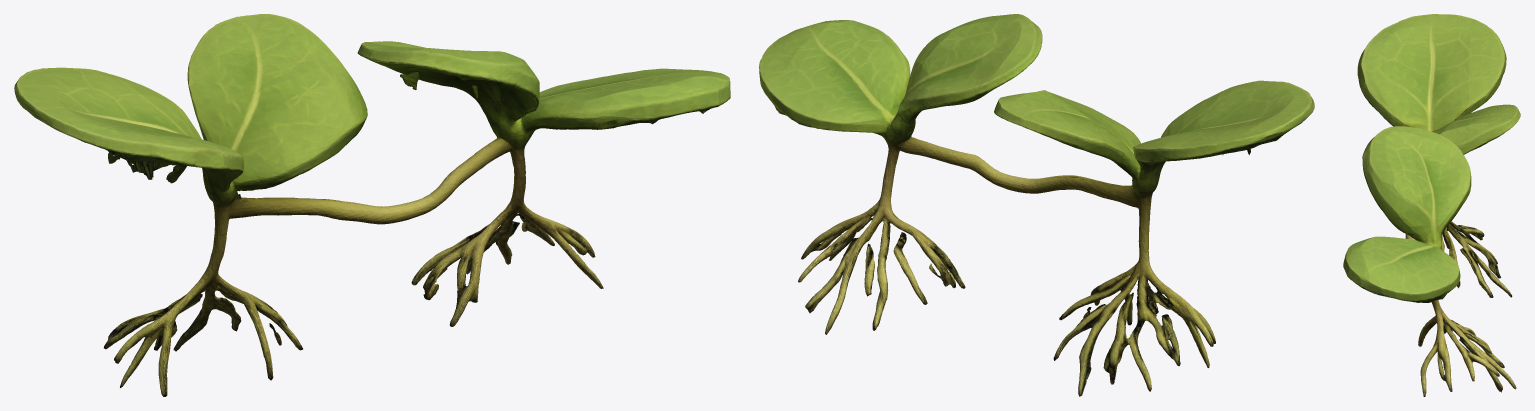
3 renders of one model, left to right at view 1: azimuth 30°, elevation 25°; view 2: azimuth 150°, elevation 25°; view 3: azimuth 270°, elevation 25°, orthographic. The views are drawn at different scales.
Visible parts, largest first — view 1: world; view 2: world; view 3: world.
Boxes of the visible parts, x1=… form: world: x1=14, y1=14, x2=730, y2=396; world: x1=759, y1=14, x2=1314, y2=396; world: x1=1343, y1=14, x2=1520, y2=396.
Size of the model in its own units: 0.9999 by 0.4885 by 0.3569.
Materials: 1 (1 with a texture image).
